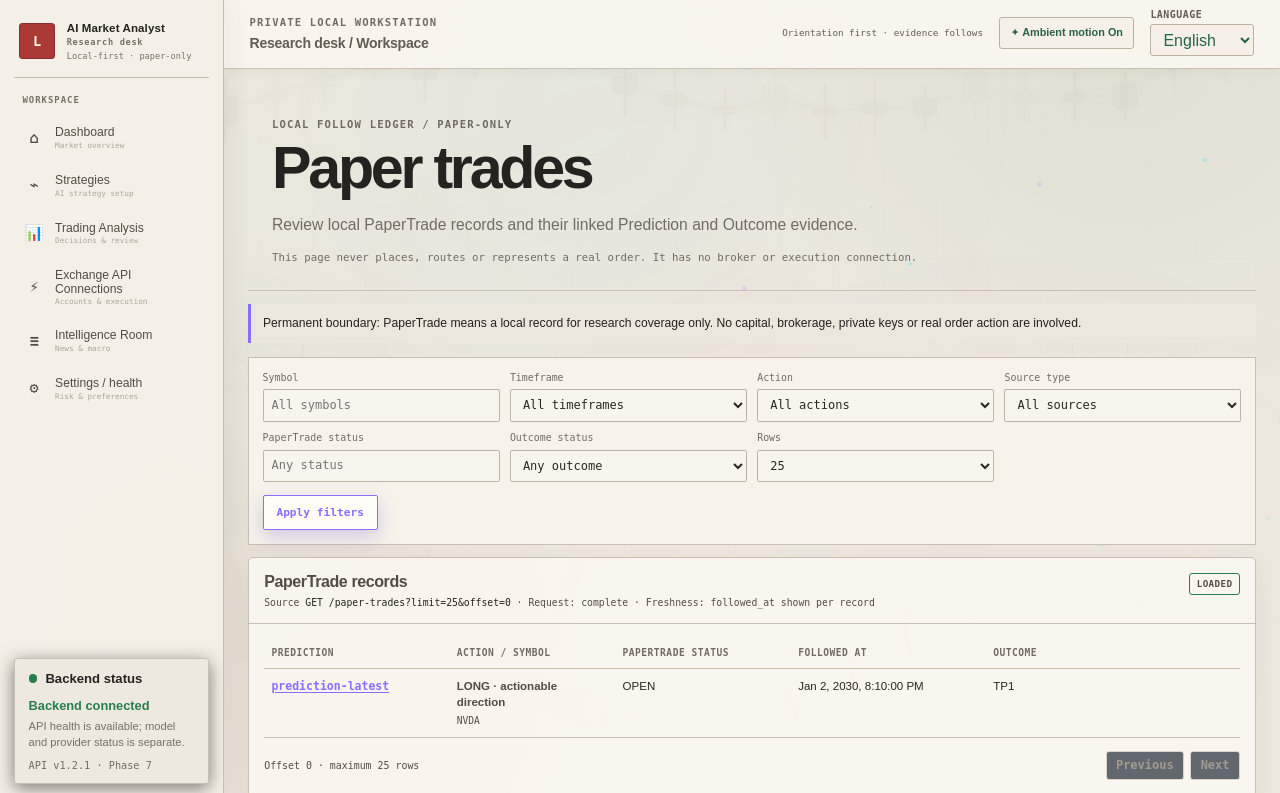
PaperTradesPage › renders the permanent paper-only boundary and linked detail evidence
Expected: the text "Permanent boundary: PaperTrade means a local record" is shown, x1=263 y1=316 x2=1081 y2=330
Click the button "prediction-latest". click: click(330, 686)
box: x1=271 y1=678 x2=389 y2=694
(page scrolled)
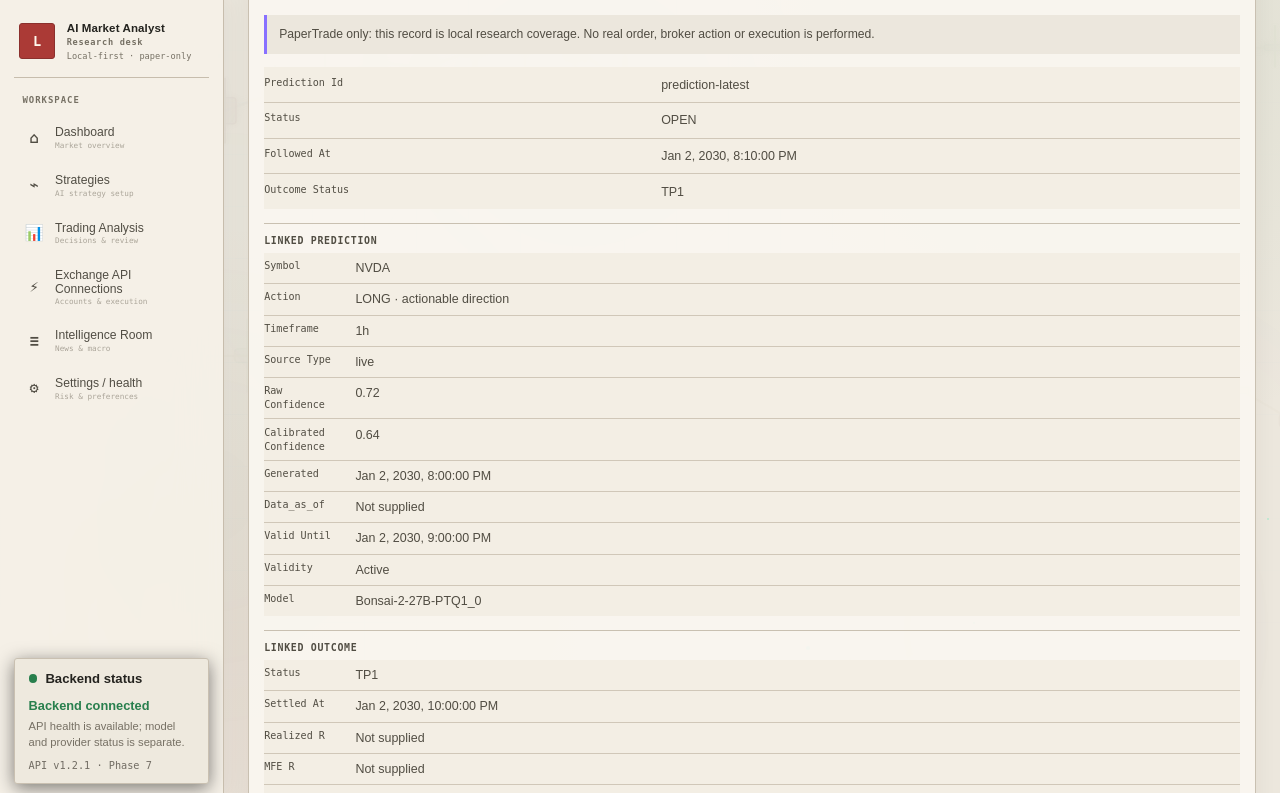
Expected: the text "No real order, broker action or execution is performed" is shown, x1=279 y1=27 x2=875 y2=41
Expected: the text "Linked Prediction" is shown, x1=264 y1=235 x2=377 y2=246
Expected: the text "Linked Outcome" is shown, x1=264 y1=642 x2=357 y2=653
